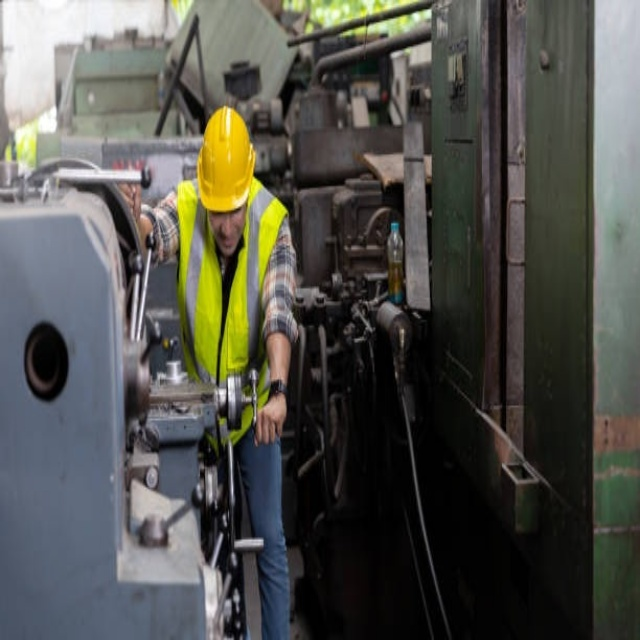Sin_guantes: (114, 179, 149, 235), (255, 387, 287, 443)
Sin_mascara: (214, 221, 241, 257)
